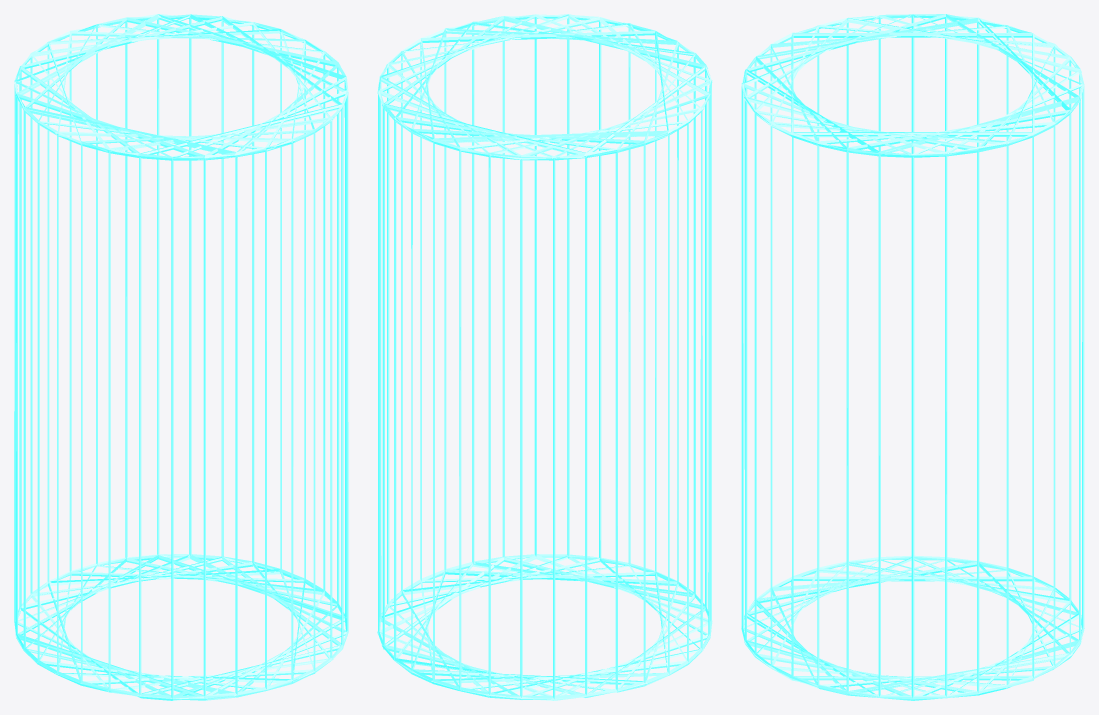
The picture shows the model from 3 angles, left to right: view 1: azimuth 30°, elevation 25°; view 2: azimuth 150°, elevation 25°; view 3: azimuth 270°, elevation 25°; orthographic projection.
Visible parts, largest first — view 1: 立方体; view 2: 立方体; view 3: 立方体.
Part boxes in pixels (left/top/right/bottom): 立方体: left=14, top=14, right=348, bottom=700; 立方体: left=377, top=14, right=712, bottom=700; 立方体: left=741, top=14, right=1084, bottom=700.
Size of the model in its own units: 16.99 by 30.74 by 17.42.
